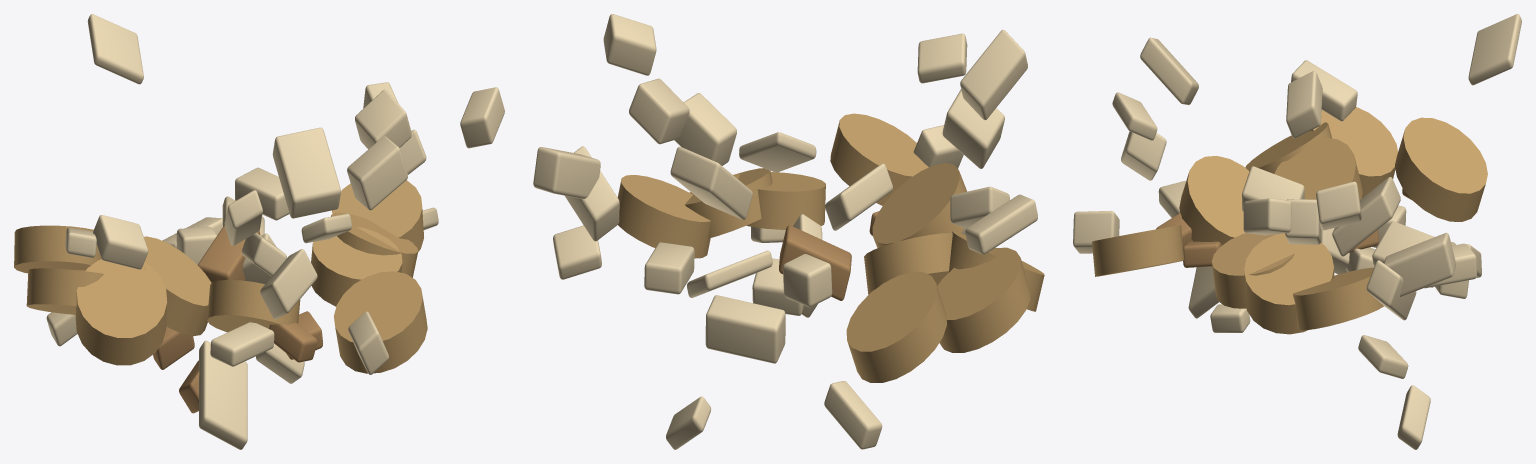
File: cookie_jar_dead.glb
3 renders of one model, left to right at view 1: azimuth 30°, elevation 25°; view 2: azimuth 150°, elevation 25°; view 3: azimuth 270°, elevation 25°, orthographic. The views are drawn at different scales.
Visible parts, largest first — view 1: Cylinder.009, Cylinder.010, Cube.057, Cube.056, Cylinder.012, Cylinder.014, Cylinder.016, Cylinder.011, Cube.041, Cylinder.013, Cube.036, Cylinder.017 (+22 smaller); view 2: Cylinder.013, Cylinder.017, Cylinder.011, Cylinder.016, Cylinder.010, Cube.039, Cube.038, Cylinder.012, Cylinder.014, Cube.057, Cube.037, Cube.034 (+21 smaller); view 3: Cylinder.013, Cylinder.015, Cylinder.016, Cylinder.011, Cylinder.017, Cylinder.010, Cylinder.012, Cube.034, Cylinder.014, Cube.036, Cube.057, Cube.045 (+22 smaller).
Boxes of the visible parts, bbox=[...] form: Cylinder.009: bbox=[75, 259, 167, 365]; Cylinder.010: bbox=[333, 271, 427, 373]; Cube.057: bbox=[272, 127, 340, 218]; Cube.056: bbox=[199, 340, 247, 449]; Cylinder.012: bbox=[144, 236, 211, 336]; Cylinder.014: bbox=[311, 227, 402, 306]; Cylinder.016: bbox=[207, 279, 300, 332]; Cylinder.011: bbox=[332, 180, 423, 252]; Cube.041: bbox=[347, 136, 407, 210]; Cylinder.013: bbox=[14, 225, 101, 273]; Cube.036: bbox=[87, 14, 143, 84]; Cylinder.017: bbox=[26, 268, 103, 314]; Cylinder.013: bbox=[846, 272, 946, 382]; Cylinder.017: bbox=[937, 247, 1030, 352]; Cylinder.011: bbox=[617, 175, 710, 258]; Cylinder.016: bbox=[872, 163, 966, 248]; Cylinder.010: bbox=[830, 113, 928, 205]; Cube.039: bbox=[705, 295, 785, 363]; Cube.038: bbox=[960, 29, 1027, 120]; Cylinder.012: bbox=[864, 233, 958, 294]; Cylinder.014: bbox=[733, 172, 825, 229]; Cube.057: bbox=[670, 146, 752, 219]; Cube.037: bbox=[942, 89, 1004, 168]; Cube.034: bbox=[533, 147, 600, 198]; Cylinder.013: bbox=[1395, 117, 1487, 221]; Cylinder.015: bbox=[1244, 233, 1334, 334]; Cylinder.016: bbox=[1179, 156, 1249, 245]; Cylinder.011: bbox=[1293, 267, 1383, 330]; Cylinder.017: bbox=[1311, 107, 1397, 198]; Cylinder.010: bbox=[1092, 225, 1184, 276]; Cylinder.012: bbox=[1274, 137, 1362, 199]; Cube.034: bbox=[1384, 232, 1455, 297]; Cylinder.014: bbox=[1211, 233, 1294, 308]; Cube.036: bbox=[1468, 14, 1521, 85]; Cube.057: bbox=[1332, 177, 1400, 256]; Cube.045: bbox=[1286, 71, 1322, 138].
Size of the model in its own units: 4.6 by 3.75 by 4.19.
